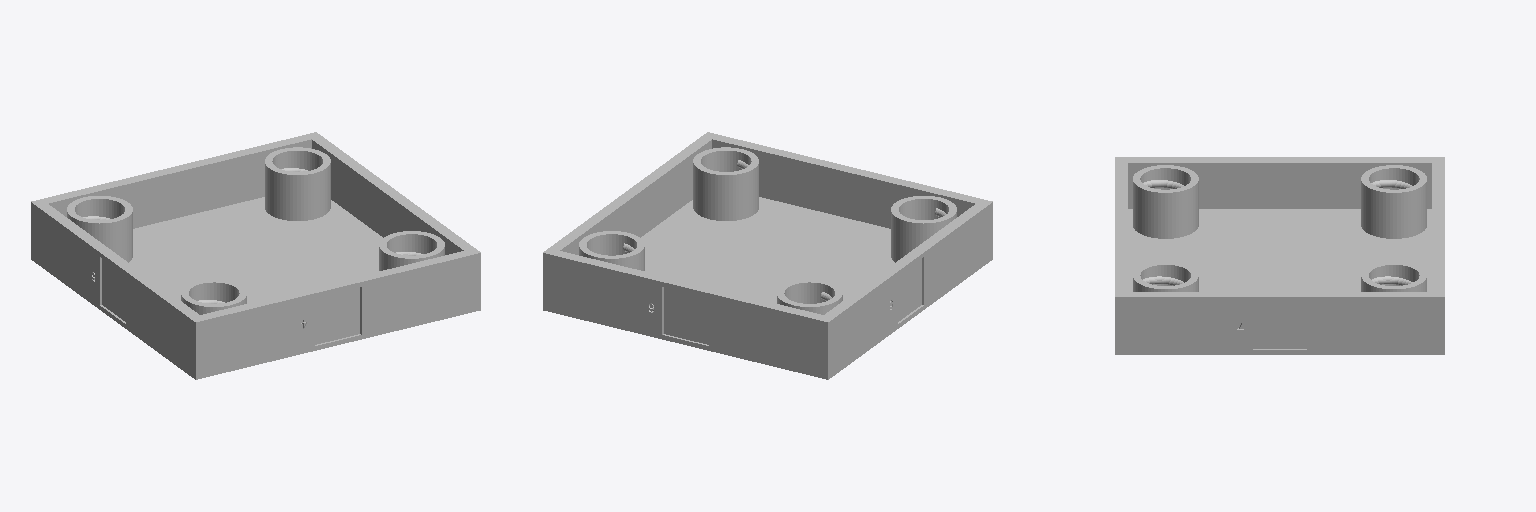
File: square_table.obj
The picture shows the model from 3 angles: view 1: azimuth 30°, elevation 25°; view 2: azimuth 150°, elevation 25°; view 3: azimuth 270°, elevation 25°; orthographic projection.
Visible parts, largest first — view 1: square_top, square_top.001, square_top.002; view 2: square_top, square_top.003, square_top.002; view 3: square_top, square_top.004.
Part boxes in pixels (x1,y1,x2,y2): square_top: (31, 132, 480, 379); square_top.001: (315, 287, 361, 345); square_top.002: (100, 257, 125, 323); square_top: (543, 132, 992, 379); square_top.003: (662, 287, 708, 345); square_top.002: (898, 257, 923, 323); square_top: (1115, 157, 1444, 354); square_top.004: (1253, 302, 1306, 349).
Size of the model in its own units: 0.1625 by 0.0312 by 0.1625.